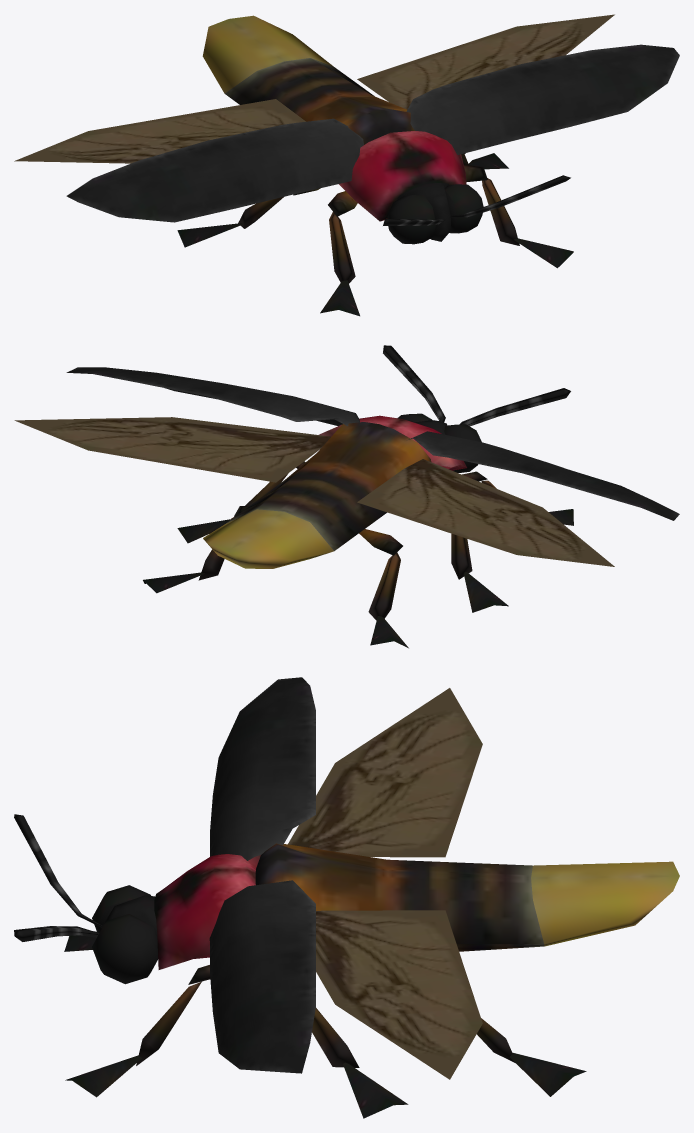
Rendered from firefly.glb.
The picture shows the model from 3 angles, top to bottom: view 1: azimuth 30°, elevation 25°; view 2: azimuth 150°, elevation 25°; view 3: azimuth 270°, elevation 25°; orthographic projection. The views are drawn at different scales.
Visible parts, largest first — view 1: InsectHotaru_node10, InsectHotaru_node11; view 2: InsectHotaru_node10, InsectHotaru_node11; view 3: InsectHotaru_node10, InsectHotaru_node11.
Part boxes in pixels (x1=…): InsectHotaru_node10: x1=66, y1=15, x2=679, y2=316; InsectHotaru_node11: x1=14, y1=14, x2=614, y2=163; InsectHotaru_node10: x1=66, y1=345, x2=679, y2=648; InsectHotaru_node11: x1=14, y1=417, x2=614, y2=566; InsectHotaru_node10: x1=14, y1=677, x2=679, y2=1118; InsectHotaru_node11: x1=288, y1=688, x2=482, y2=1079.
Size of the model in its own units: 3.51 by 0.6711 by 2.5.
2 materials, 2 textured.
